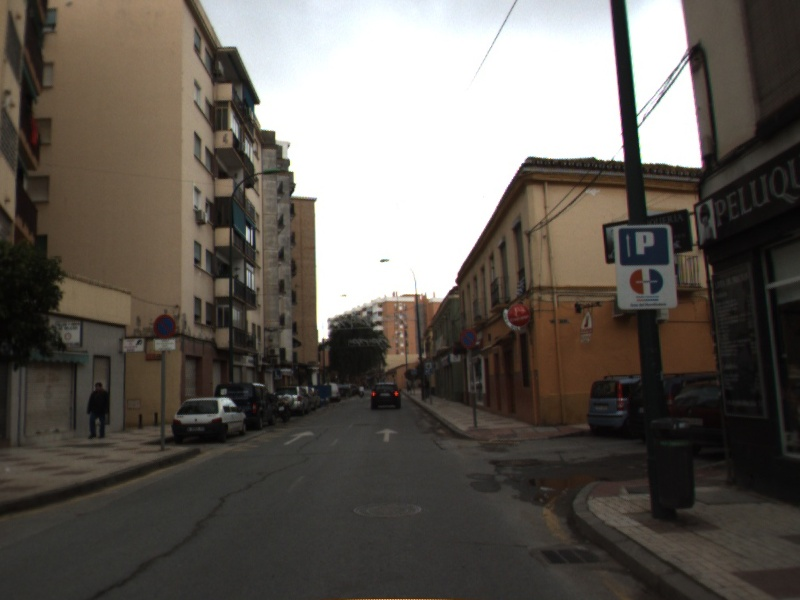STRAIGHT: (281, 428, 317, 447), (373, 426, 401, 444)
